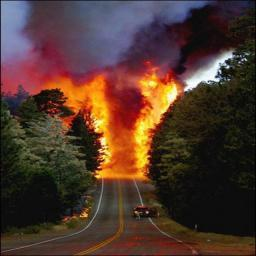Heavy smoke: (138, 2, 251, 70)
Large fire: (35, 57, 183, 177)
Low smoke: (21, 2, 122, 66)
Small fire: (62, 191, 95, 225)
